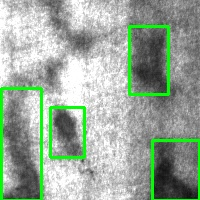patches: (1, 88, 41, 200), (152, 140, 199, 200), (129, 26, 168, 94), (50, 107, 84, 157)
